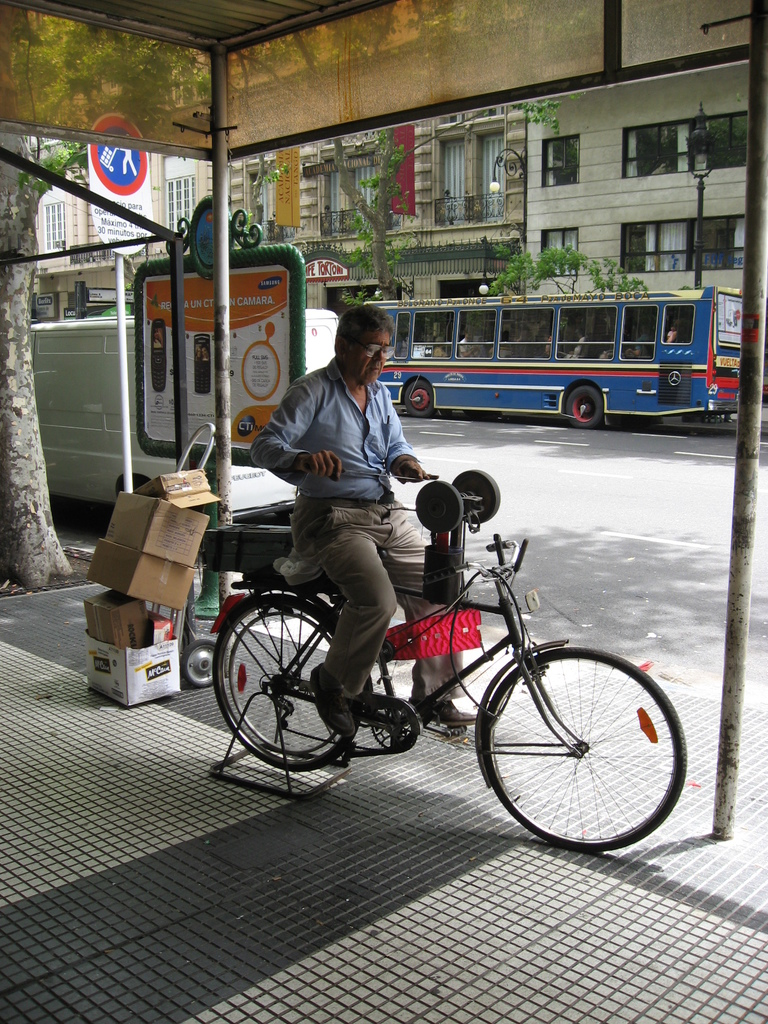bicycle: (206, 536, 689, 857)
